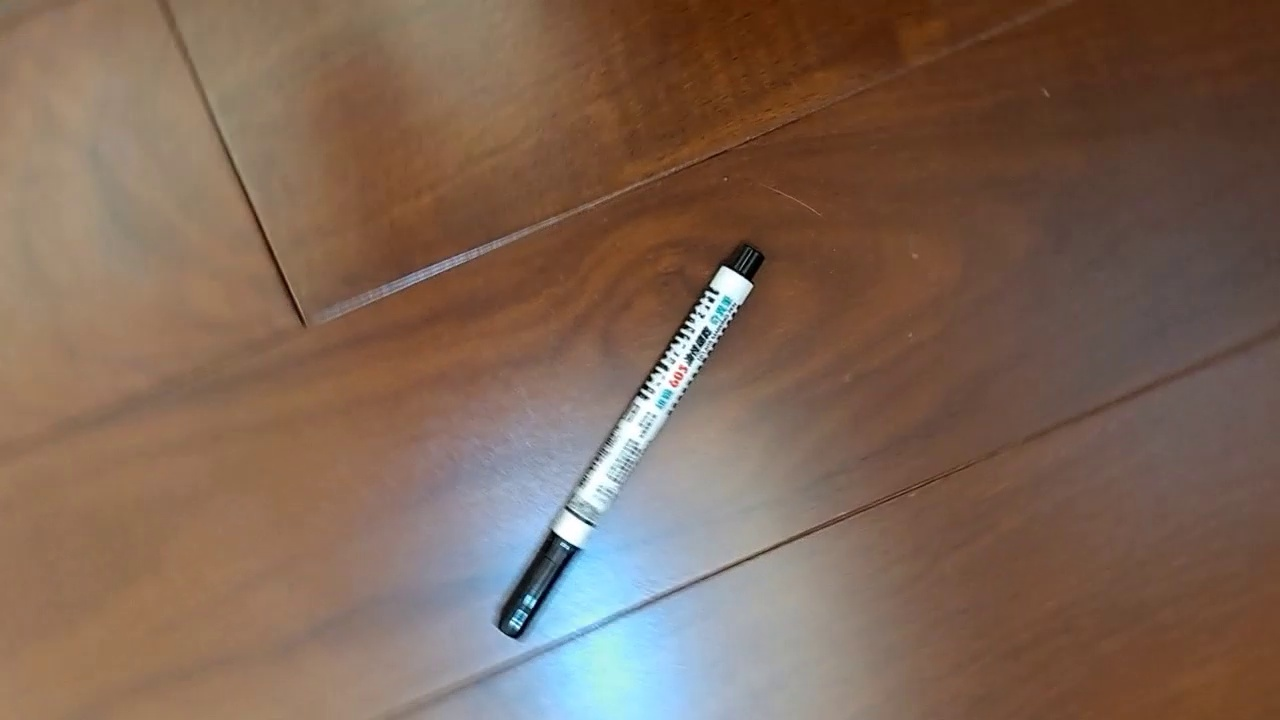pen: (492, 239, 766, 643)
